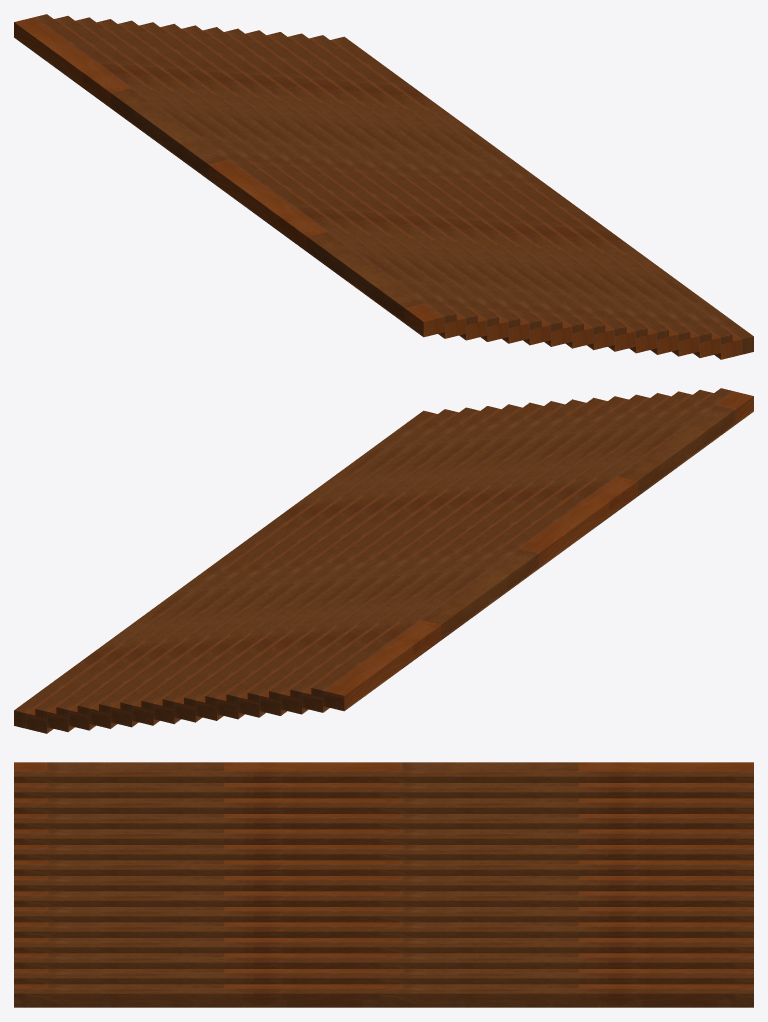
File: DualStaircase.fbx
3 renders of one model, top to bottom at view 1: azimuth 30°, elevation 25°; view 2: azimuth 150°, elevation 25°; view 3: azimuth 270°, elevation 25°, orthographic. The views are drawn at different scales.
Visible parts, largest first — view 1: DualStairs; view 2: DualStairs; view 3: DualStairs.
Part boxes in pixels (left/top/right/bottom): DualStairs: left=14, top=14, right=753, bottom=359; DualStairs: left=14, top=388, right=753, bottom=733; DualStairs: left=14, top=762, right=753, bottom=1007.
Size of what is drawn, in the model's own units: 1225 by 392 by 2631.
